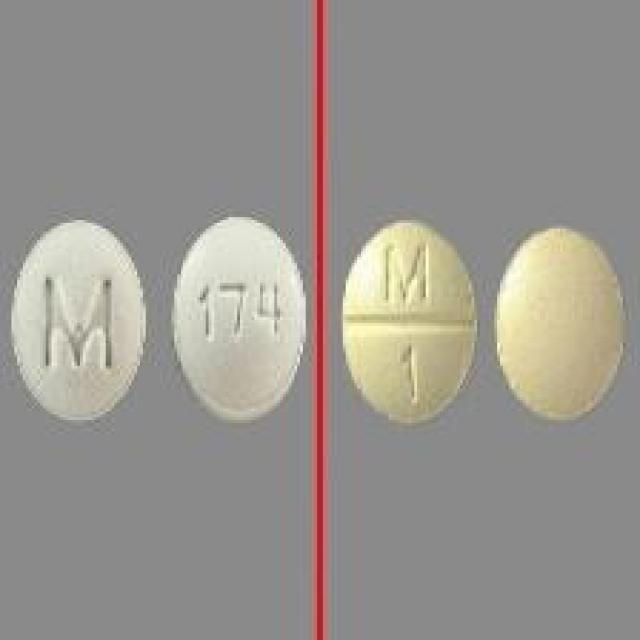Medicine: (326, 199, 479, 463), (165, 199, 317, 442), (9, 204, 157, 444), (495, 205, 623, 442)
